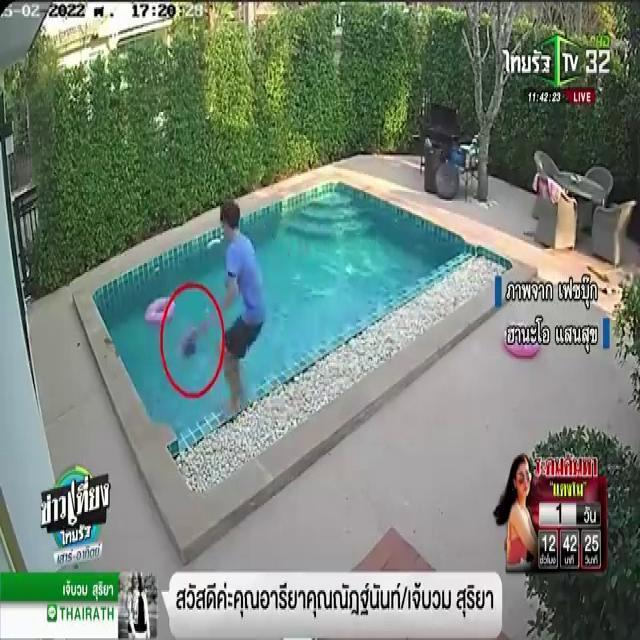Out of Water: (181, 325, 202, 367)
